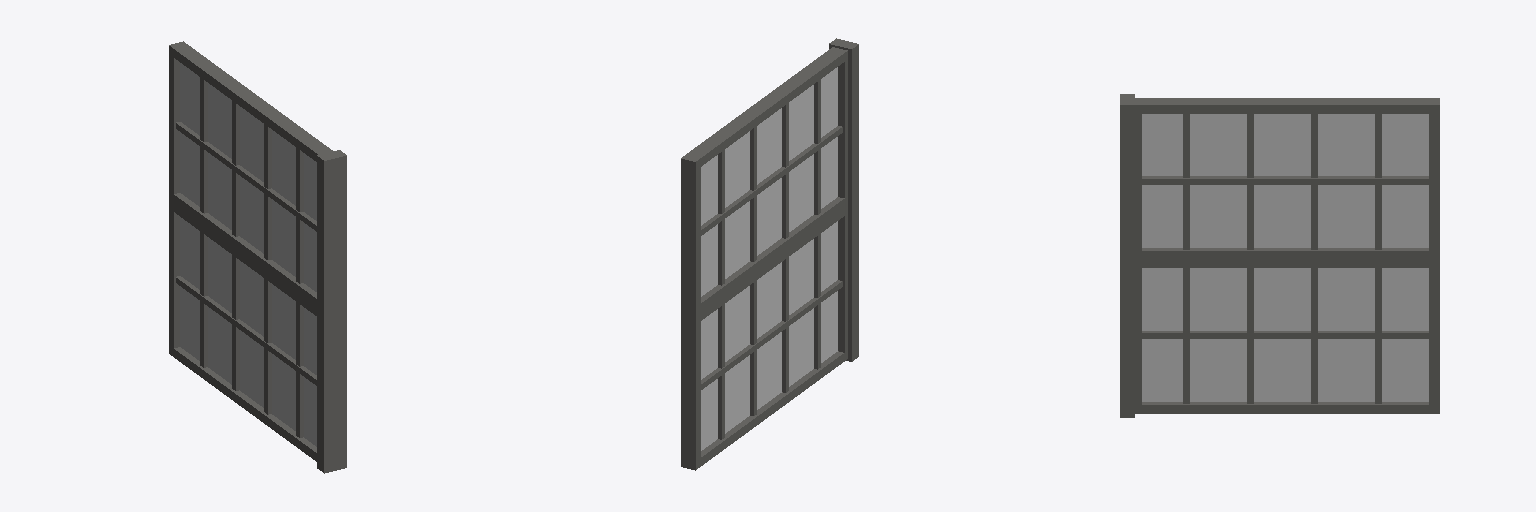
File: window.obj
3 renders of one model, left to right at view 1: azimuth 30°, elevation 25°; view 2: azimuth 150°, elevation 25°; view 3: azimuth 270°, elevation 25°, orthographic.
Parts seen in each view (by area): view 1: Window_Large2; view 2: Window_Large2; view 3: Window_Large2.
Boxes of the visible parts, x1,y1,x2,y2 form: Window_Large2: [169, 41, 346, 473]; Window_Large2: [681, 38, 858, 470]; Window_Large2: [1120, 94, 1439, 417].
Size of the model in its own units: 0.1411 by 1.83 by 1.7.